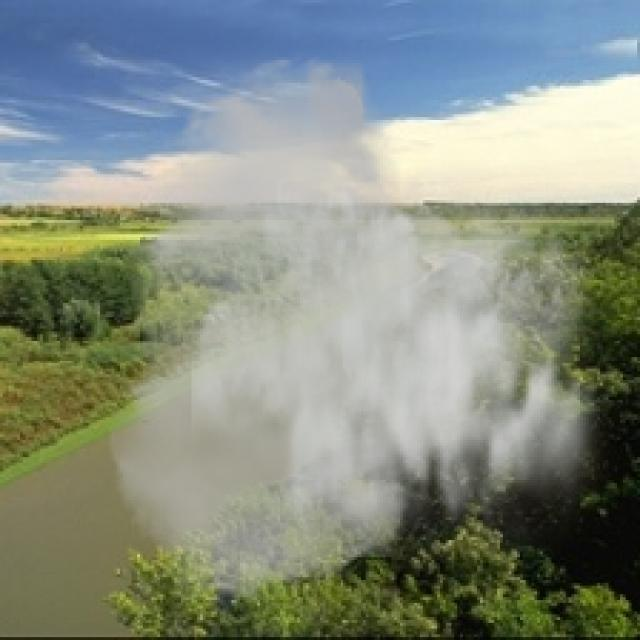smoke: (105, 51, 626, 612)
